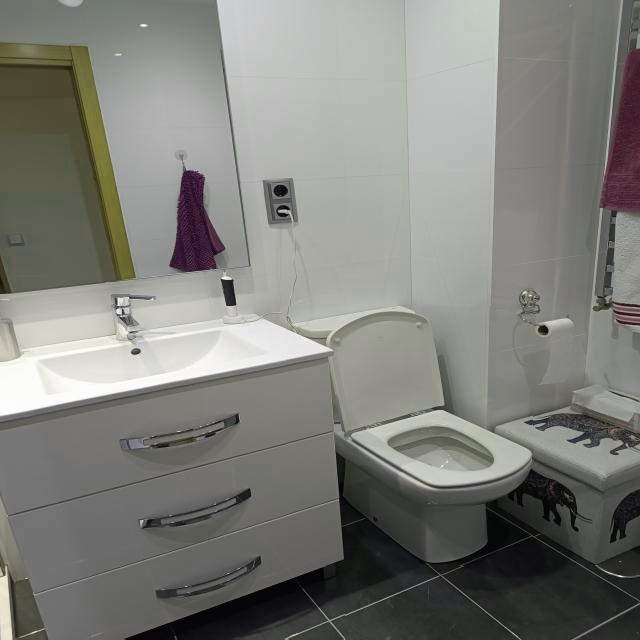cabinet: (0, 366, 345, 639)
shelf: (0, 558, 11, 639)
table: (287, 307, 533, 566)
wardrobe: (0, 294, 324, 423)
